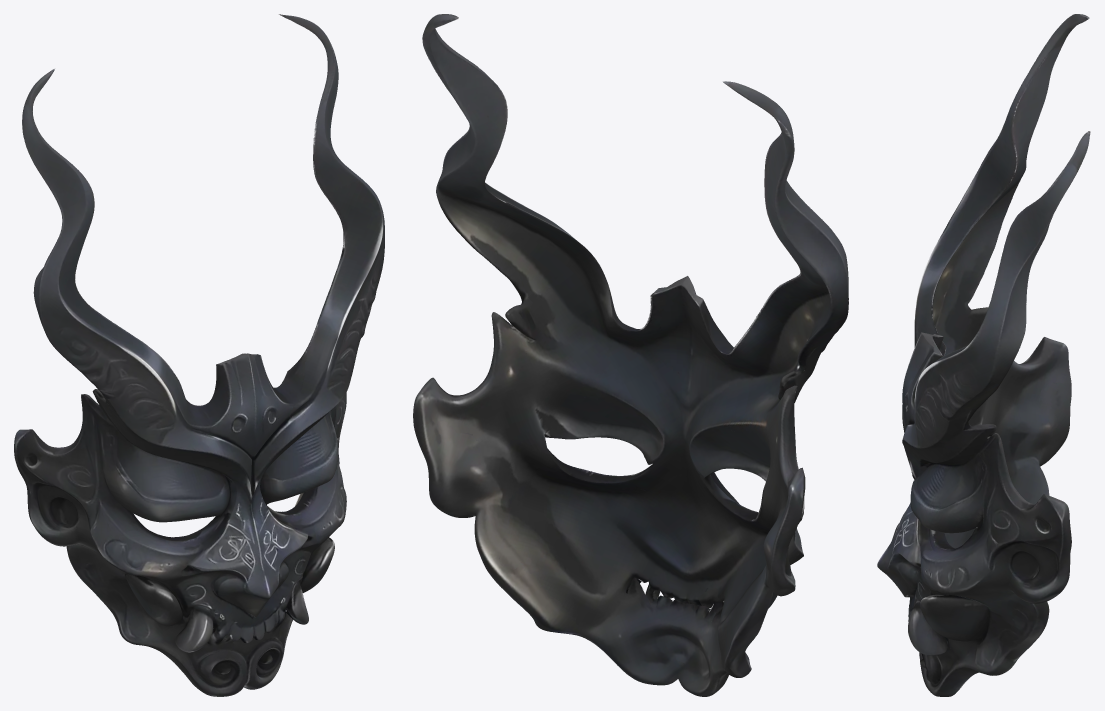
The model's file is mask.glb.
3 renders of one model, left to right at view 1: azimuth 30°, elevation 25°; view 2: azimuth 150°, elevation 25°; view 3: azimuth 270°, elevation 25°, orthographic. The views are drawn at different scales.
Parts seen in each view (by area): view 1: model; view 2: model; view 3: model.
Part boxes in pixels (<box>): model: <box>14,14,384,696</box>; model: <box>413,14,848,696</box>; model: <box>877,14,1090,696</box>.
Bounding box in the file's own units: 0.1814 × 0.3 × 0.0951.
Materials: 1 (1 with a texture image).
